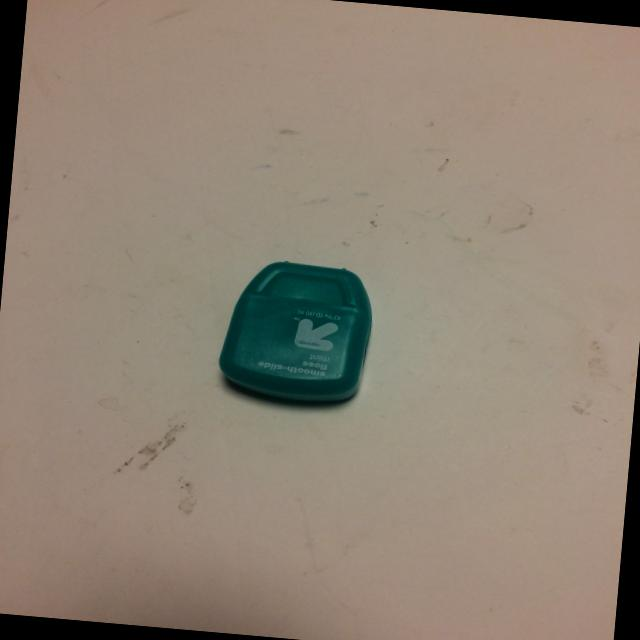Plastic: (194, 240, 444, 451)
